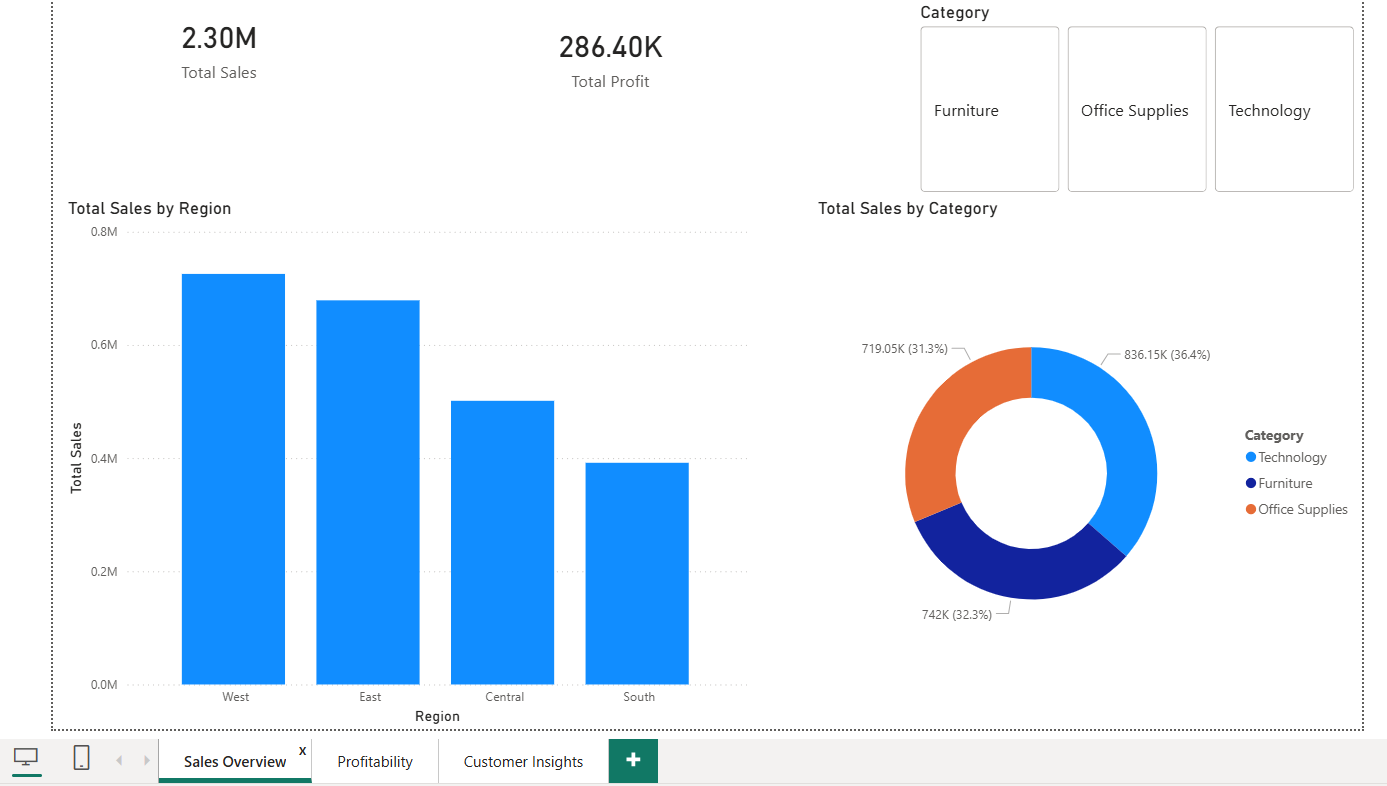

Layout of this report page (visuals, bound fields, positions):
{"tool":"powerbi","page":{"name":"Sales Overview","canvas":[1280,720],"ordinal":0},"visuals":[{"type":"card","fields":{"Values":["clean_superstore.Total Sales"]},"box":[0,0,325.1,104.8],"z":0},{"type":"card","fields":{"Values":["clean_superstore.Total Profit"]},"box":[325.1,0,440.6,123.6],"z":1000},{"type":"clusteredColumnChart","fields":{"Category":["clean_superstore.Region"],"Y":["clean_superstore.Total Sales"]},"box":[9.4,200.2,674.4,519.9],"z":2000},{"type":"donutChart","fields":{"Category":["clean_superstore.Category"],"Y":["clean_superstore.Total Sales"]},"box":[742.9,200.2,537.4,519.9],"z":3000},{"type":"advancedSlicerVisual","fields":{"Values":["clean_superstore.Category"]},"box":[843.7,8.1,436.6,192.1],"z":3001}]}

Visuals, with their boxes on the page's 1280x720 design canvas (x1, y1, x2, y2). These are canvas units, not pixel positions in the 1387x786 screenshot, which may show the page scaled, cropped or inside an application window:
card - clean_superstore.Total Sales: detection(0, 0, 325, 105)
card - clean_superstore.Total Profit: detection(325, 0, 766, 124)
clusteredColumnChart - clean_superstore.Region x clean_superstore.Total Sales: detection(9, 200, 684, 720)
donutChart - clean_superstore.Category x clean_superstore.Total Sales: detection(743, 200, 1280, 720)
advancedSlicerVisual - clean_superstore.Category: detection(844, 8, 1280, 200)
